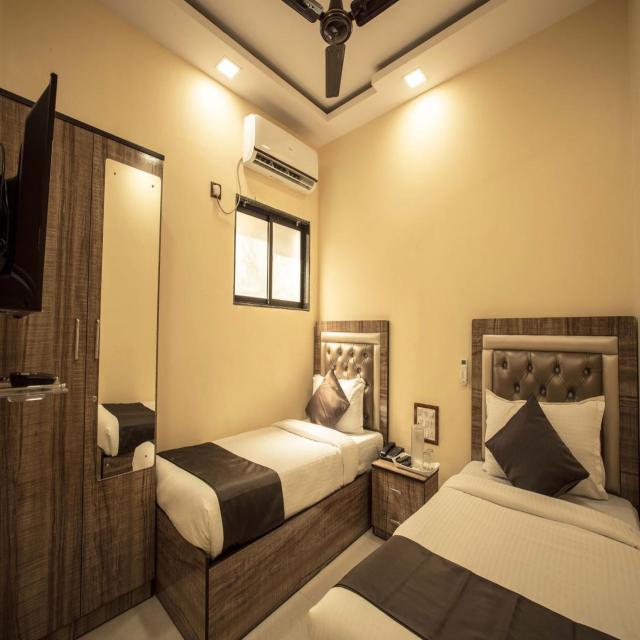bed: (306, 316, 640, 640), (154, 319, 389, 639)
